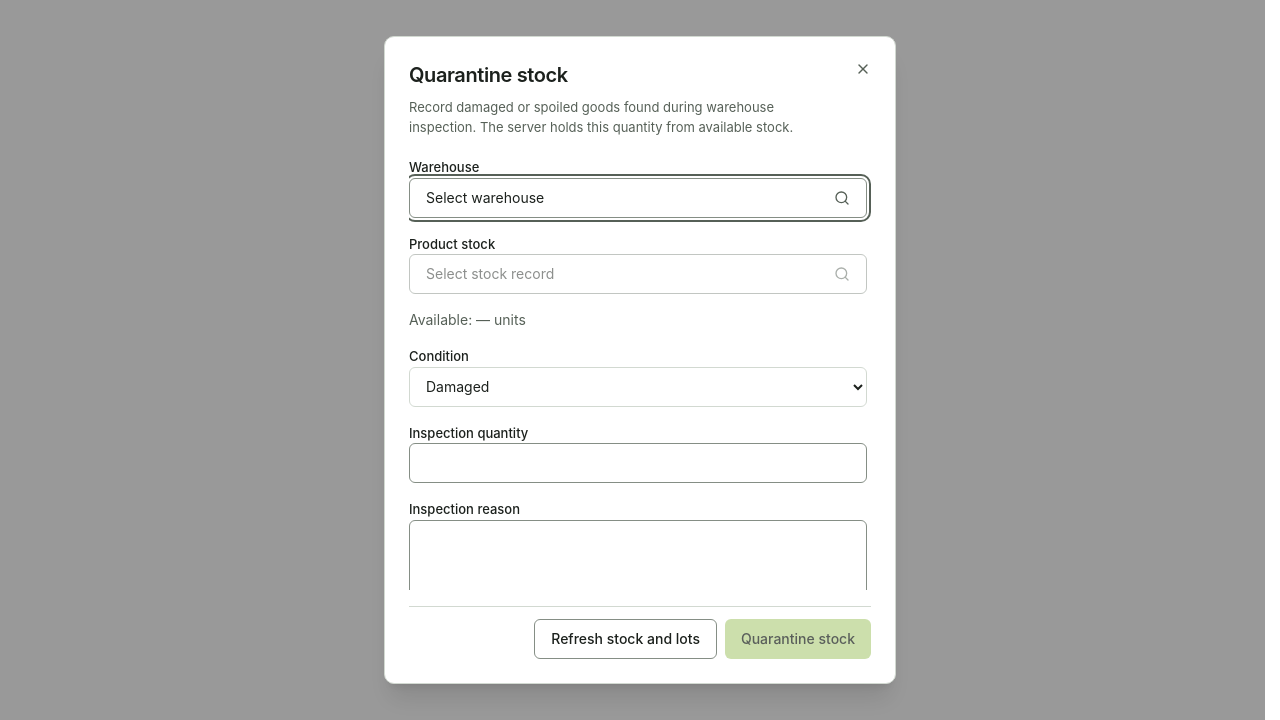
Test case: loads warehouse and warehouse-scoped stock pages on demand without duplicate options
Expected: the button with aria-label "Quarantine product stock" is disabled, [409,254,867,294]
Step 1. Click the button with aria-label "Quarantine warehouse" → (485, 197), box [409,178,867,218]
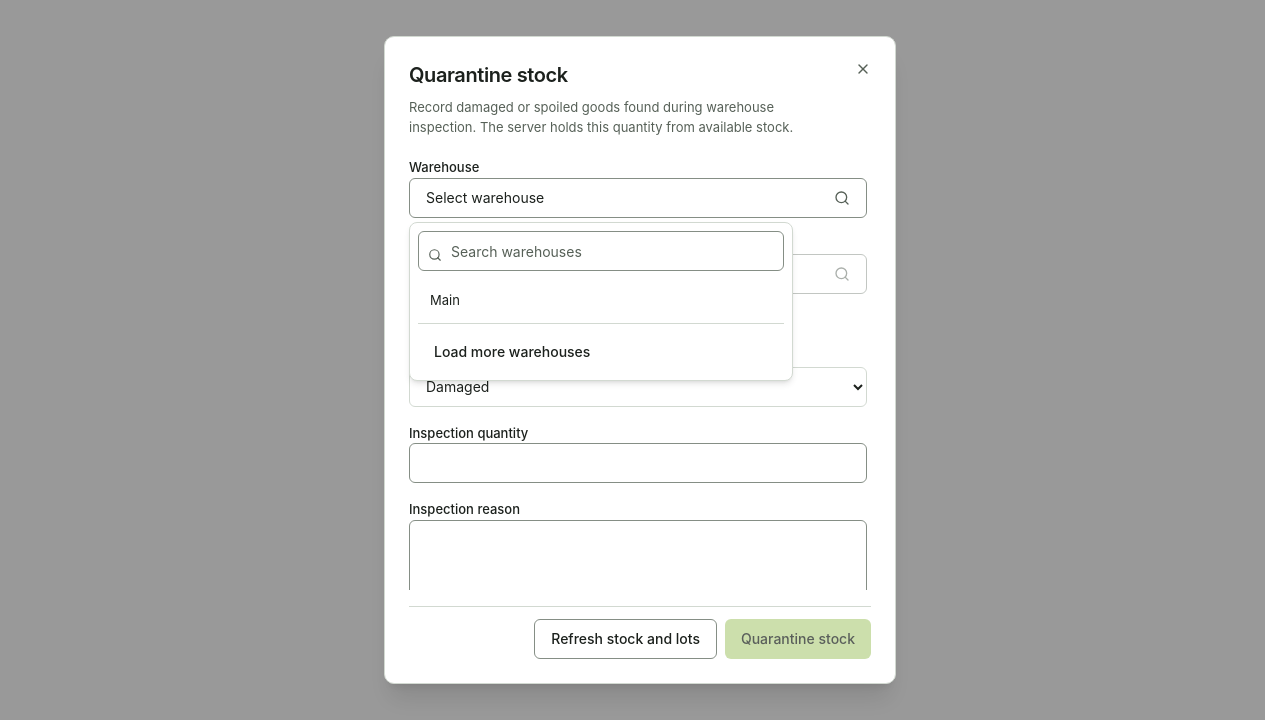
Step 2. Click the button "Load more warehouses" → (512, 352), box [418,332,606,372]
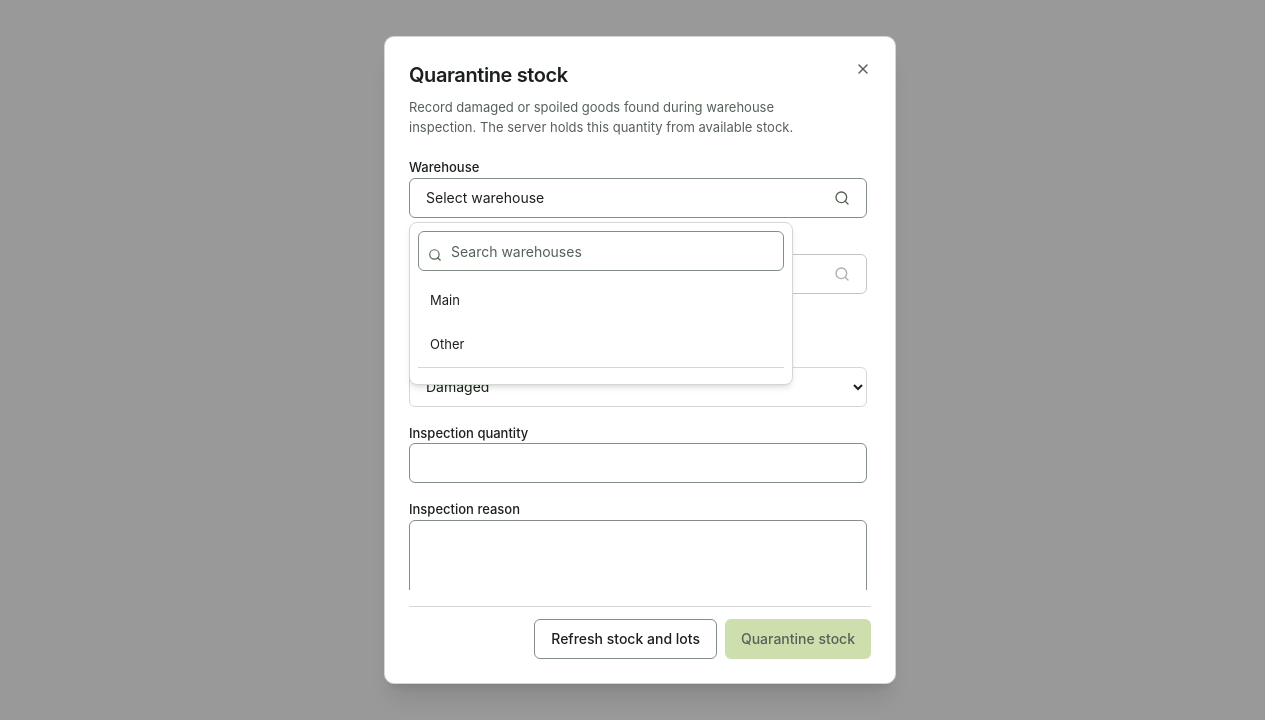
Expected: the menu item "Other" is shown, [430,336,464,352]
Expected: the number of menu items "Main" is 1
Step 3. Click the menu item "Main" → (445, 300), box [430,292,460,308]
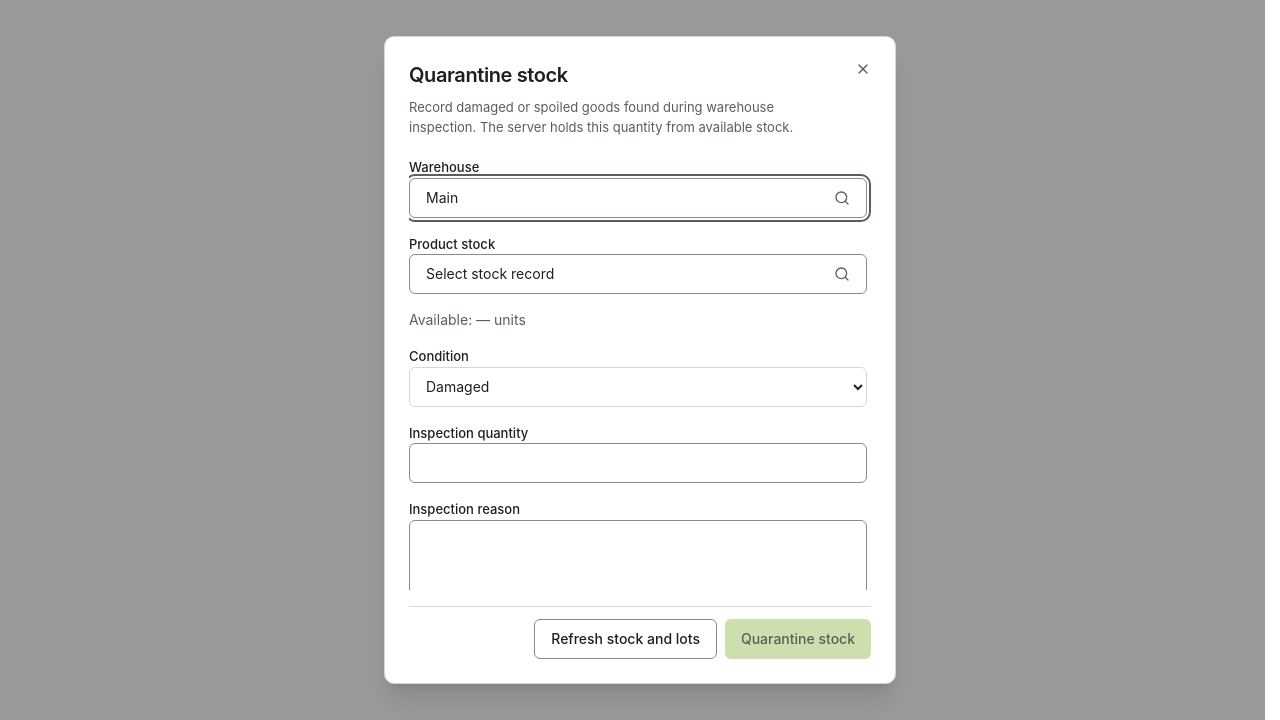
Step 4. Click the button with aria-label "Quarantine product stock" → (490, 274), box [409,254,867,294]
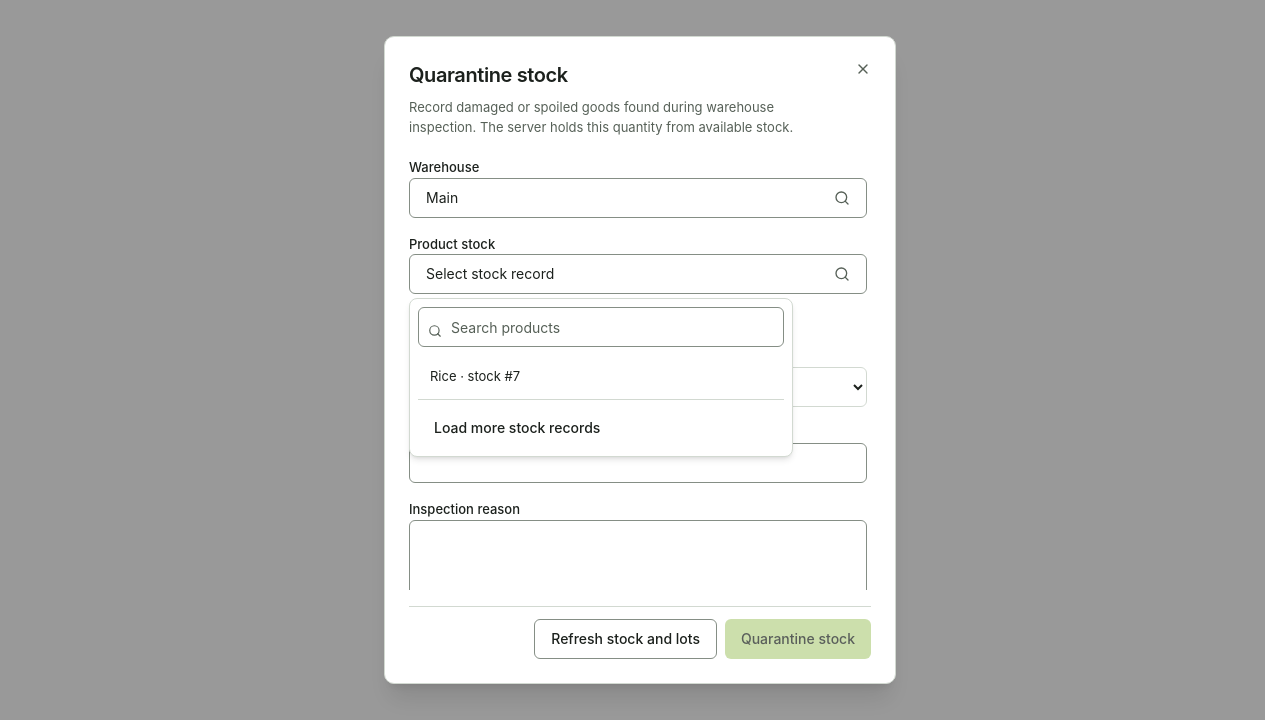
Step 5. Click the button "Load more stock records" → (517, 428), box [418,408,616,448]
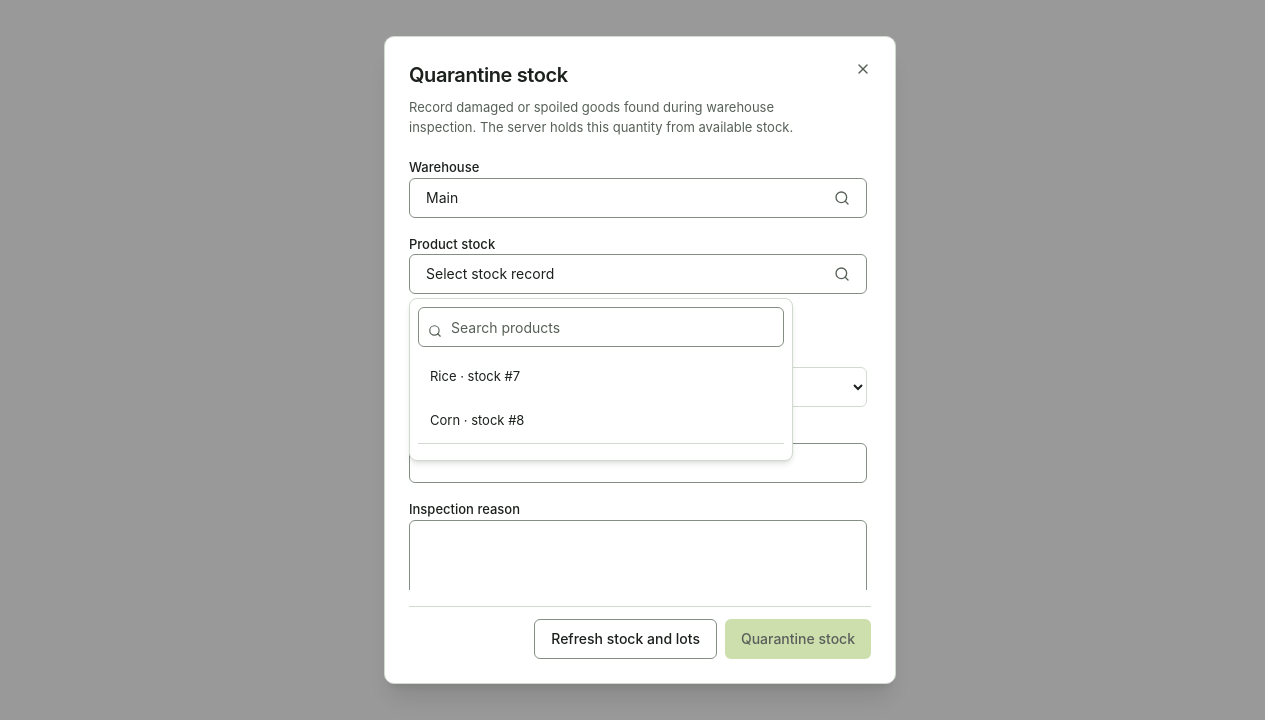
Step 6. Click the menu item "Corn · stock #8" → (477, 420), box [430,412,524,428]
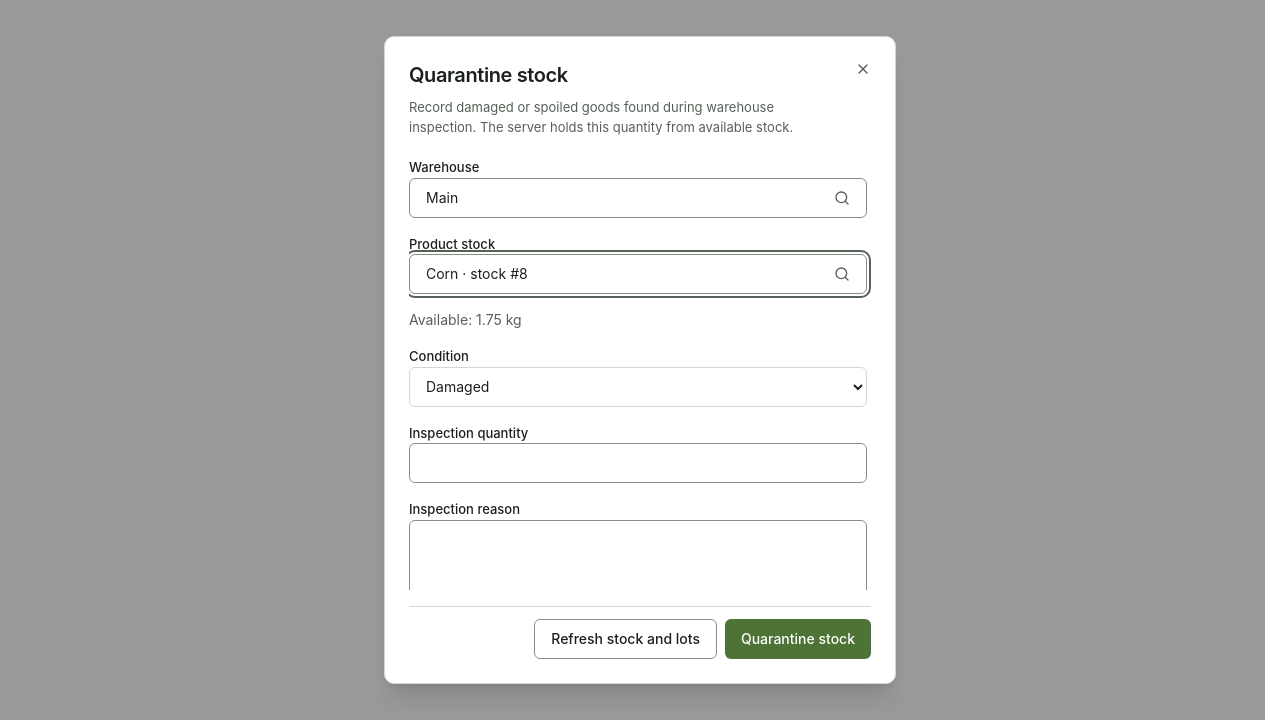
Expected: the button "Quarantine stock" is enabled, [725,619,871,659]
